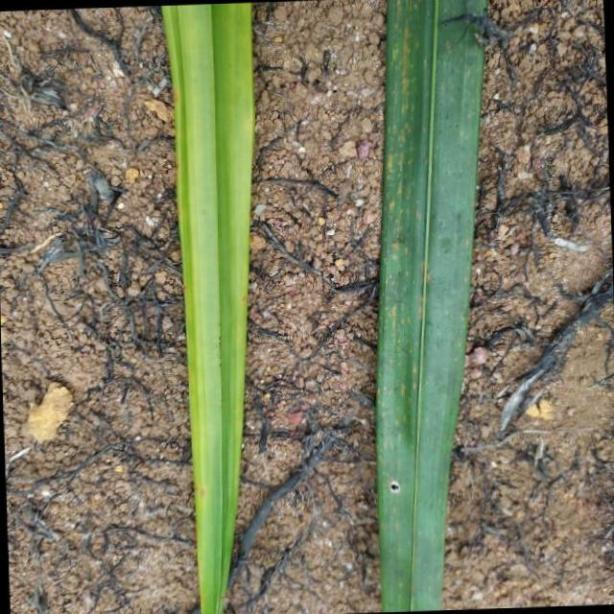nitrogen: (374, 0, 481, 614), (161, 0, 252, 604)
